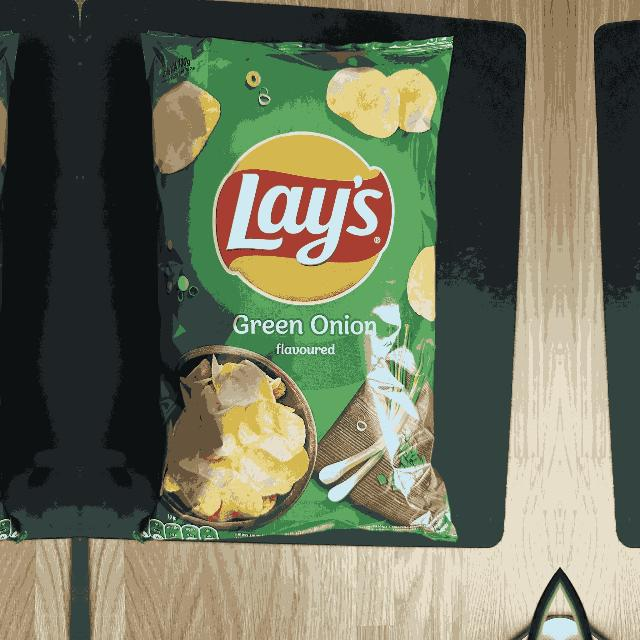lays: (213, 132, 396, 307)
